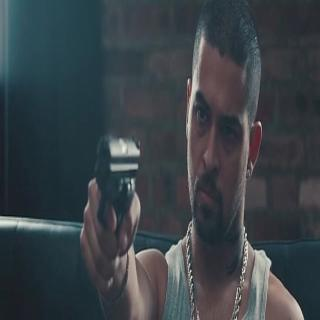gun: (68, 112, 148, 293)
